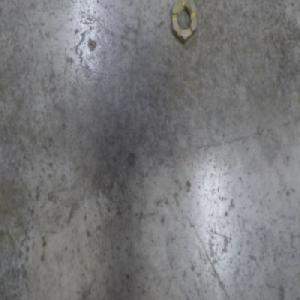Nut: (171, 0, 199, 44)
